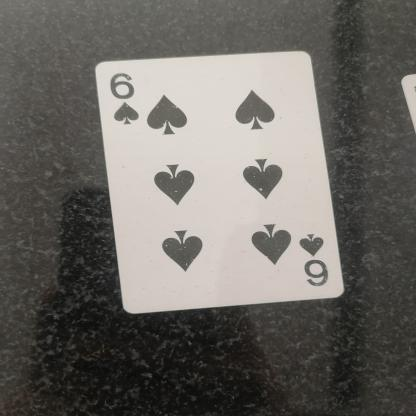6S: (91, 73, 150, 128), (295, 232, 337, 290)
